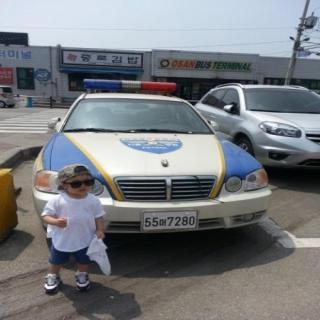Police_car: (24, 76, 272, 240)
